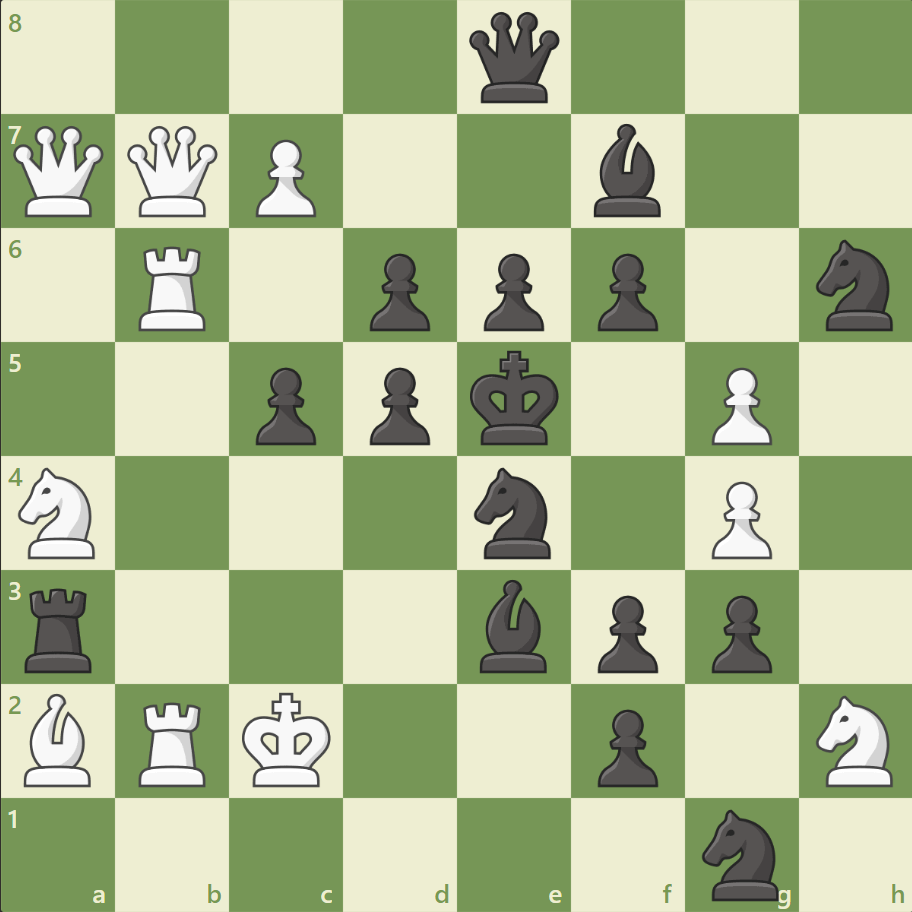B: (17, 687, 101, 790)
K: (238, 685, 338, 793)
N: (11, 461, 108, 564), (806, 688, 903, 791)
P: (247, 132, 322, 223), (701, 359, 776, 450), (701, 473, 776, 564)
Q: (10, 122, 109, 222), (124, 122, 223, 222)
R: (133, 239, 215, 336), (133, 693, 215, 790)
b: (585, 120, 669, 222), (471, 574, 555, 676)
k: (465, 344, 565, 452)
n: (806, 234, 903, 337), (465, 461, 562, 564), (692, 802, 789, 904)
p: (474, 246, 549, 337), (247, 359, 322, 450), (701, 586, 776, 677), (361, 246, 435, 337), (588, 246, 662, 337), (361, 359, 435, 450), (588, 586, 662, 677), (588, 700, 662, 791)
q: (464, 9, 563, 108)
r: (19, 579, 102, 676)
